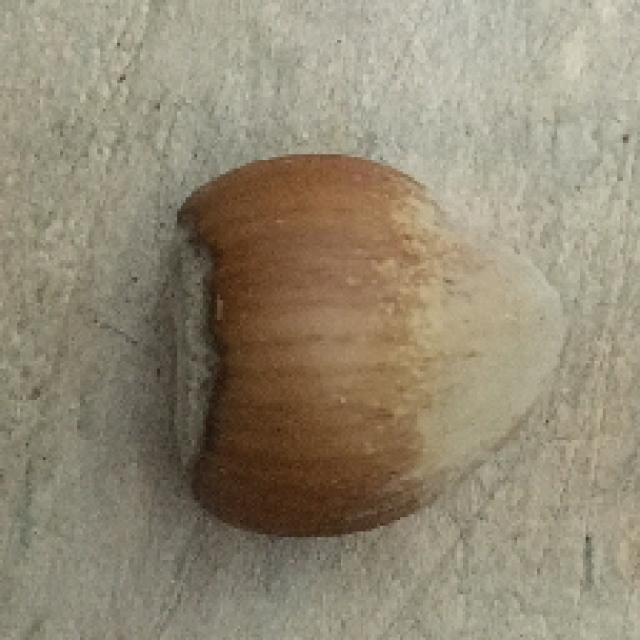qualityHazelnut: (164, 153, 569, 544)
